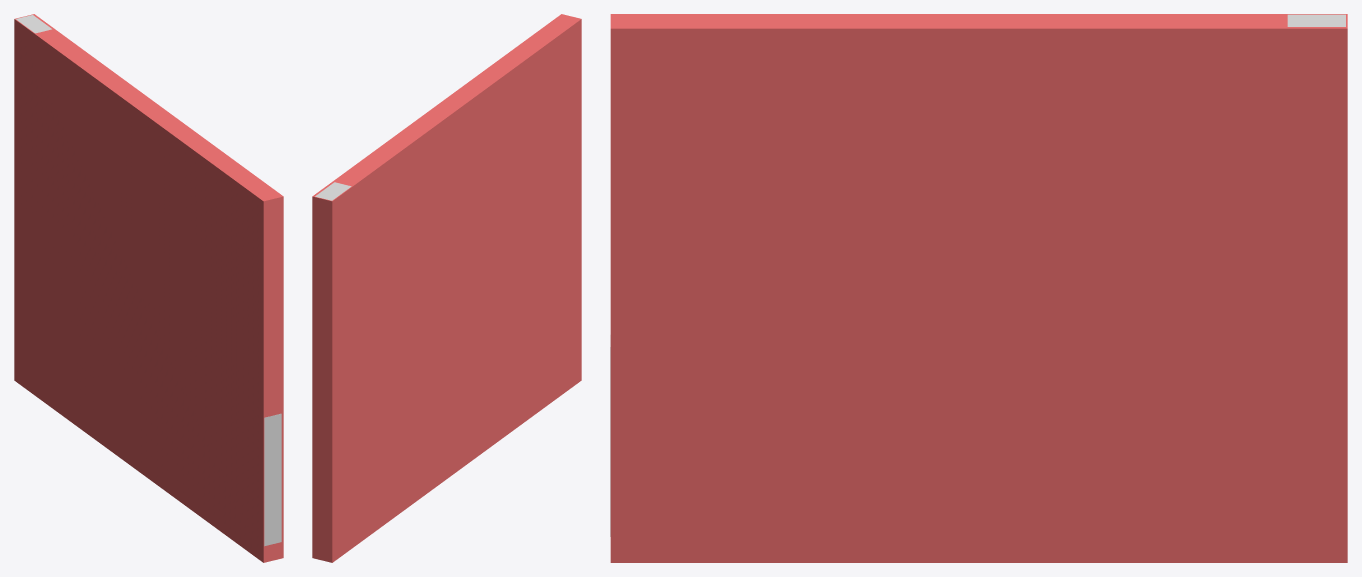
Rendered from prop_stairs_railing.glb.
The picture shows the model from 3 angles, left to right: view 1: azimuth 30°, elevation 25°; view 2: azimuth 150°, elevation 25°; view 3: azimuth 270°, elevation 25°; orthographic projection. The views are drawn at different scales.
Parts seen in each view (by area): view 1: brush_box.013, prop_stairs_railing; view 2: brush_box.013, prop_stairs_railing; view 3: brush_box.013, prop_stairs_railing.
Part boxes in pixels (<box>): brush_box.013: <box>14,14,283,562</box>; prop_stairs_railing: <box>16,15,281,546</box>; brush_box.013: <box>312,14,581,562</box>; prop_stairs_railing: <box>315,182,351,200</box>; brush_box.013: <box>610,14,1347,562</box>; prop_stairs_railing: <box>610,14,1345,536</box>.
Bounding box in the file's own units: 0.2237 × 3.84 × 4.8.
